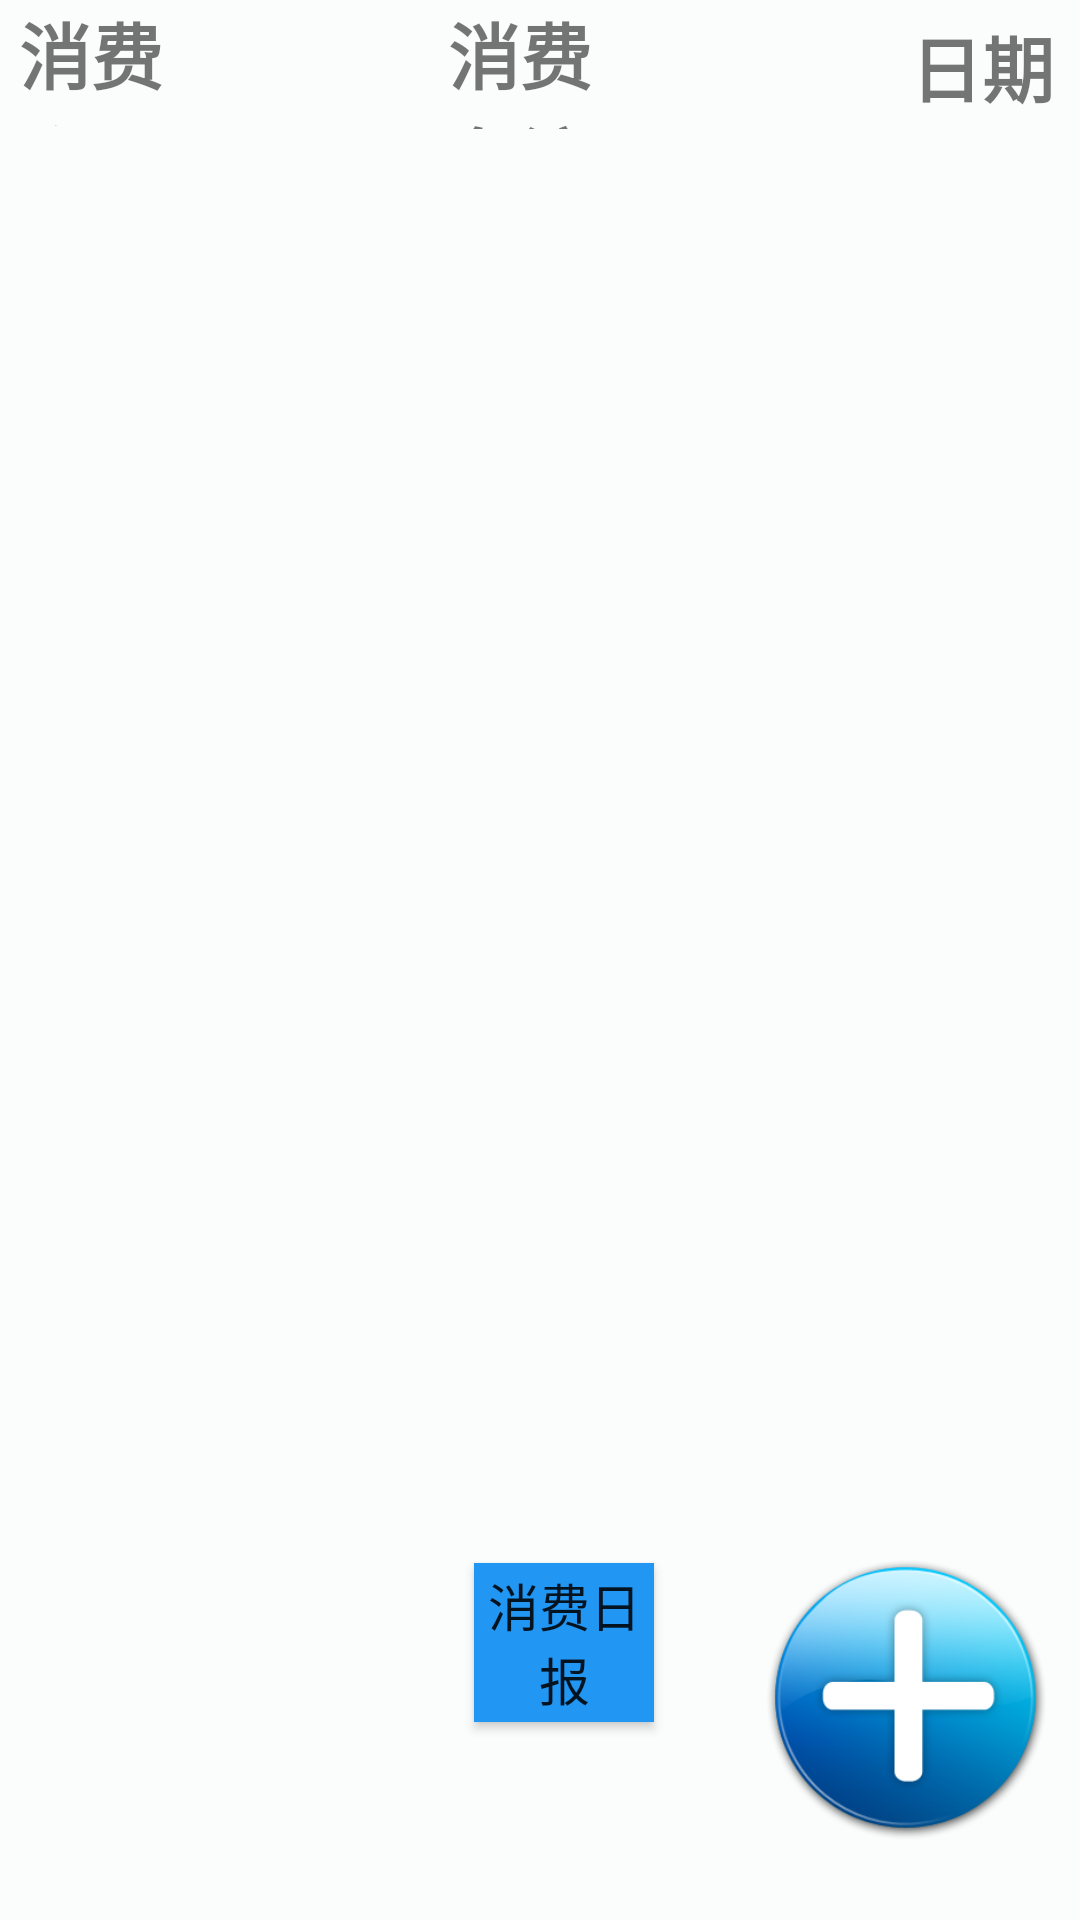

Screen size 1080*1920. Icon name, then its box in pixels as (x1, y1, x2, y2):
add: (771, 1564, 1042, 1835)
